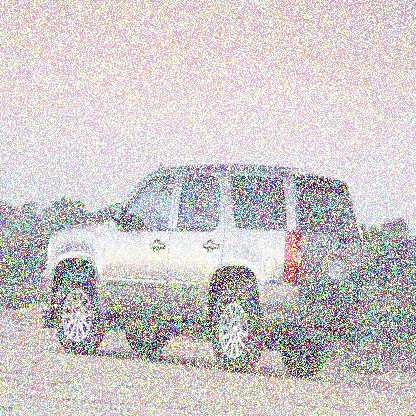Vehicle: (41, 158, 374, 378)
